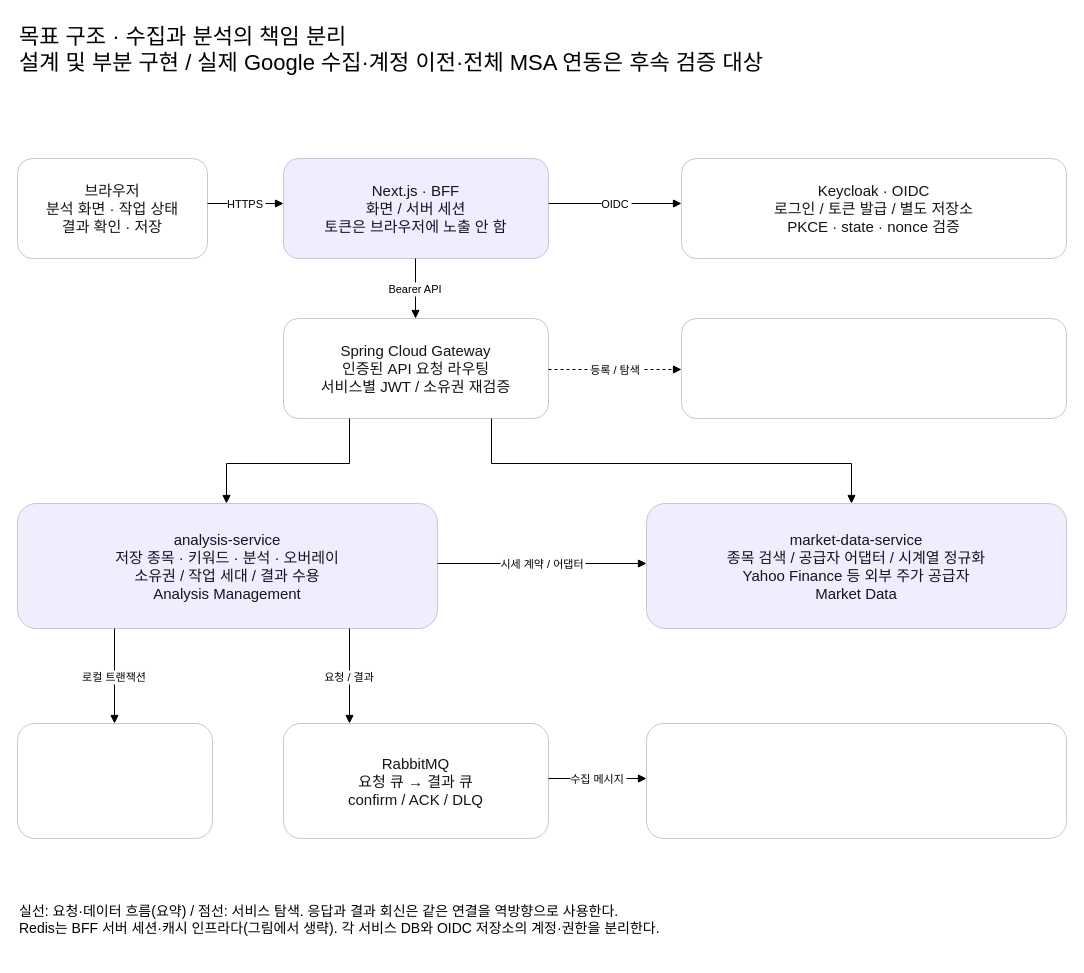
Some shapes in this 1084 by 973 pixel diagram are drawn without their labels. Here are the shapes that lost their labels. From the top down, the centre of each, then its label:
At point (873, 368): "Eureka 서비스 등록 / 탐색 라우팅 인프라 · 업무 도메인 아님".
At point (114, 780): "PostgreSQL Analysis 저장소 작업 / Outbox / Inbox".
At point (856, 780): "Python Trends worker 수집 실행 어댑터 · DB 직접 접근 없음 현재 fixture 전용 / 실제 Google 연동 예정".
